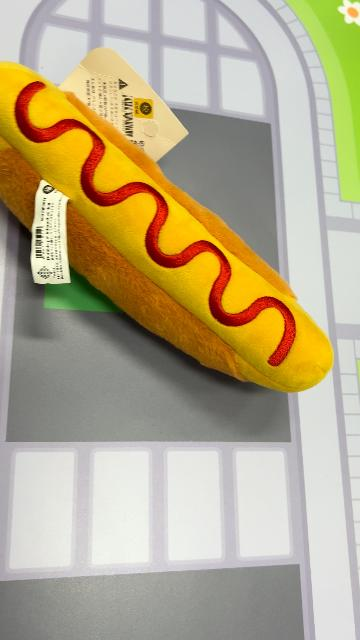hotdog: (0, 57, 336, 395)
